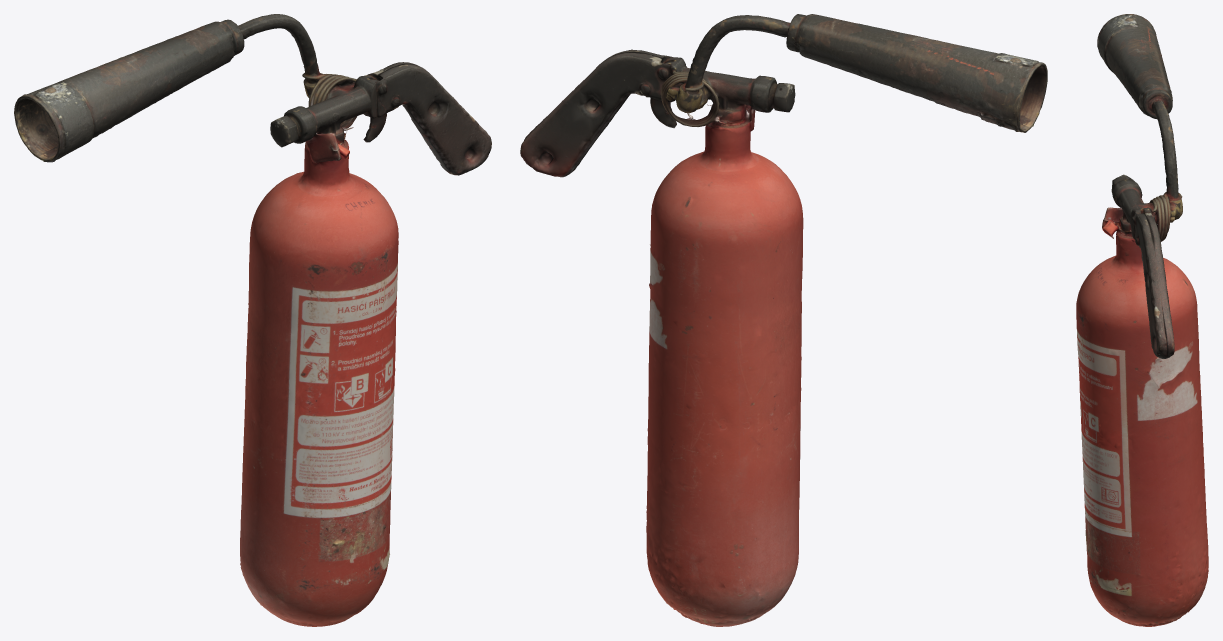
The picture shows the model from 3 angles, left to right: view 1: azimuth 30°, elevation 25°; view 2: azimuth 150°, elevation 25°; view 3: azimuth 270°, elevation 25°; orthographic projection. The views are drawn at different scales.
Parts seen in each view (by area): view 1: hasicak; view 2: hasicak; view 3: hasicak.
Boxes of the visible parts, left/top/right/bottom form: hasicak: left=14, top=14, right=491, bottom=626; hasicak: left=520, top=14, right=1047, bottom=626; hasicak: left=1076, top=14, right=1208, bottom=626.
Size of the model in its own units: 0.5404 by 0.6602 by 0.1583.
Materials: 1 (1 with a texture image).
